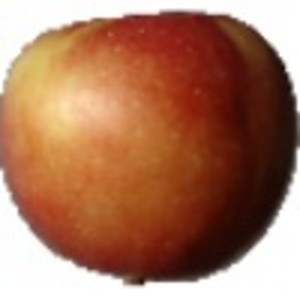maçã braeburn: (1, 9, 300, 281)
